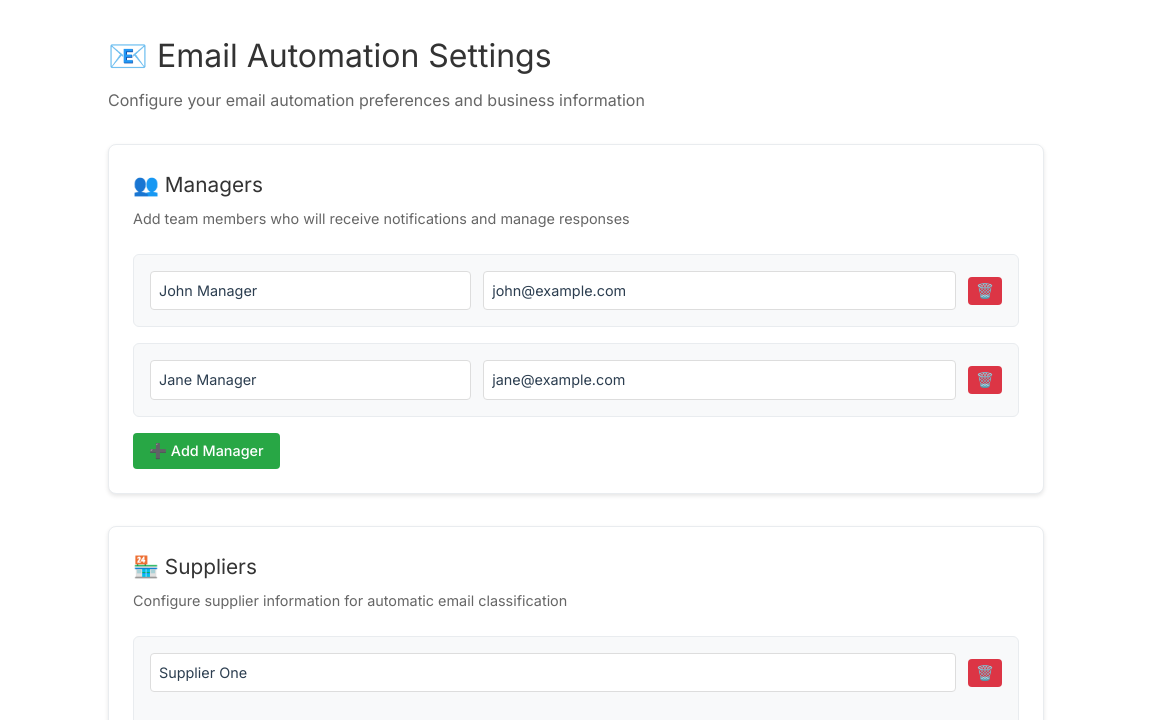
EmailAutomationSettings › should add new manager when add button is clicked
The width and height of the screenshot is (1152, 720).
Expected: the heading "👥 Managers" is shown, [133,172,263,197]
Click the button "➕ Add Manager" at (206, 451), box [133,433,280,469]
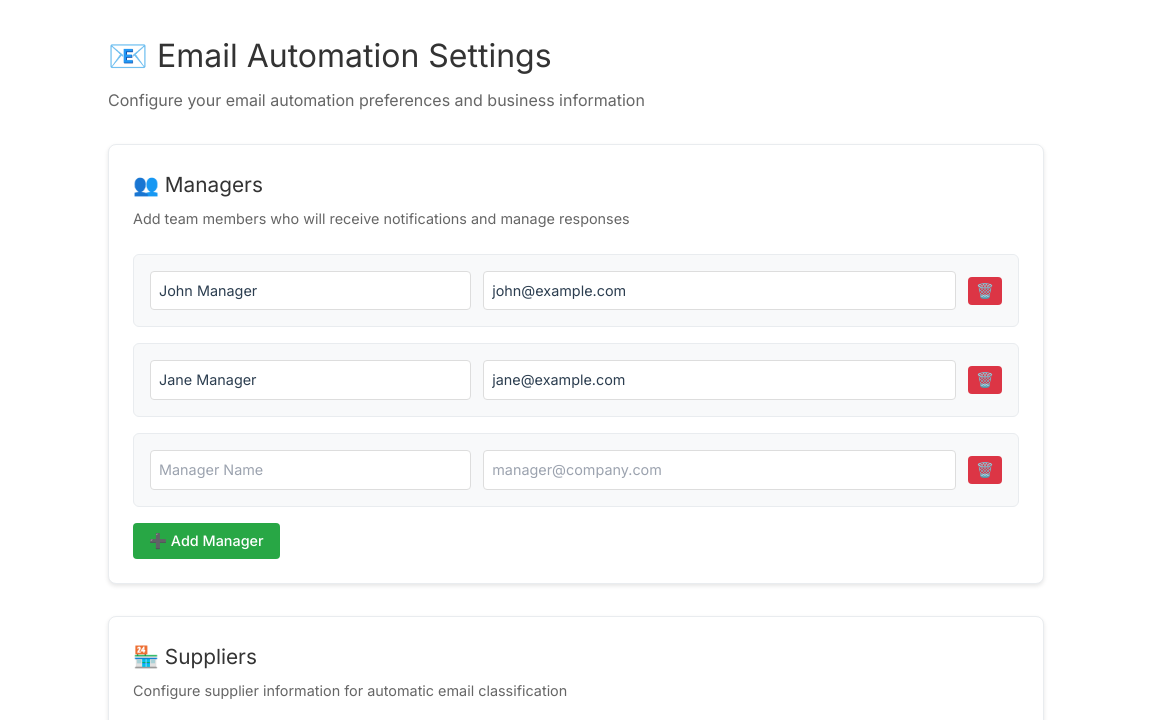
Result: the number of fields with placeholder "Manager Name" is 3 at [150,271,471,310]; [150,360,471,400]; [150,450,471,490]
